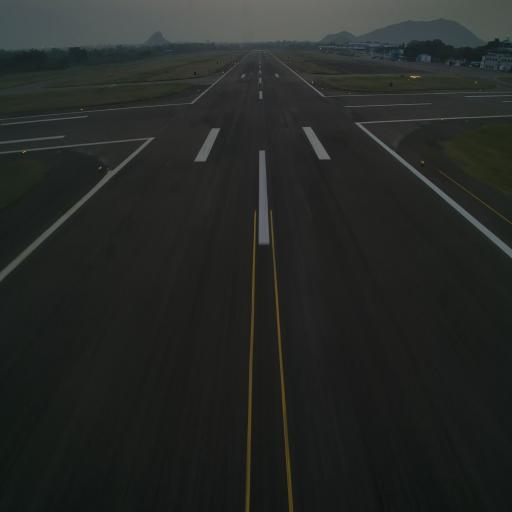on: (420, 156, 425, 166), (21, 146, 26, 155), (98, 164, 102, 173), (442, 116, 446, 122)
